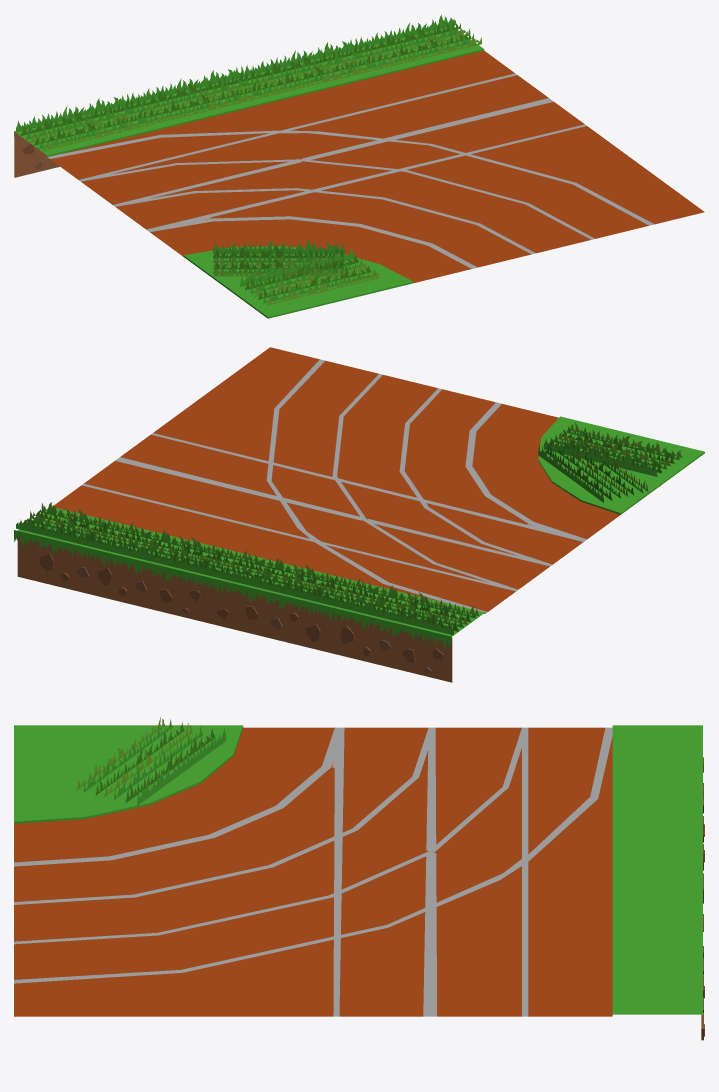
The model's file is lane_end_01.fbx.
3 views of the same model, one above another, from view 1: azimuth 30°, elevation 25°; view 2: azimuth 150°, elevation 25°; view 3: azimuth 270°, elevation 25° (orthographic). The views are drawn at different scales.
Visible parts, largest first — view 1: lane_end_01, lane_end_grass_01; view 2: lane_end_01, lane_end_grass_01; view 3: lane_end_01, lane_end_grass_01.
Boxes of the visible parts, left/top/right/bottom form: lane_end_01: left=14, top=26, right=704, bottom=318; lane_end_grass_01: left=14, top=15, right=481, bottom=305; lane_end_01: left=17, top=347, right=704, bottom=682; lane_end_grass_01: left=14, top=422, right=682, bottom=649; lane_end_01: left=14, top=725, right=704, bottom=1040; lane_end_grass_01: left=76, top=717, right=226, bottom=805.
Bounding box in the file's own units: 2295 × 303 × 2300.
